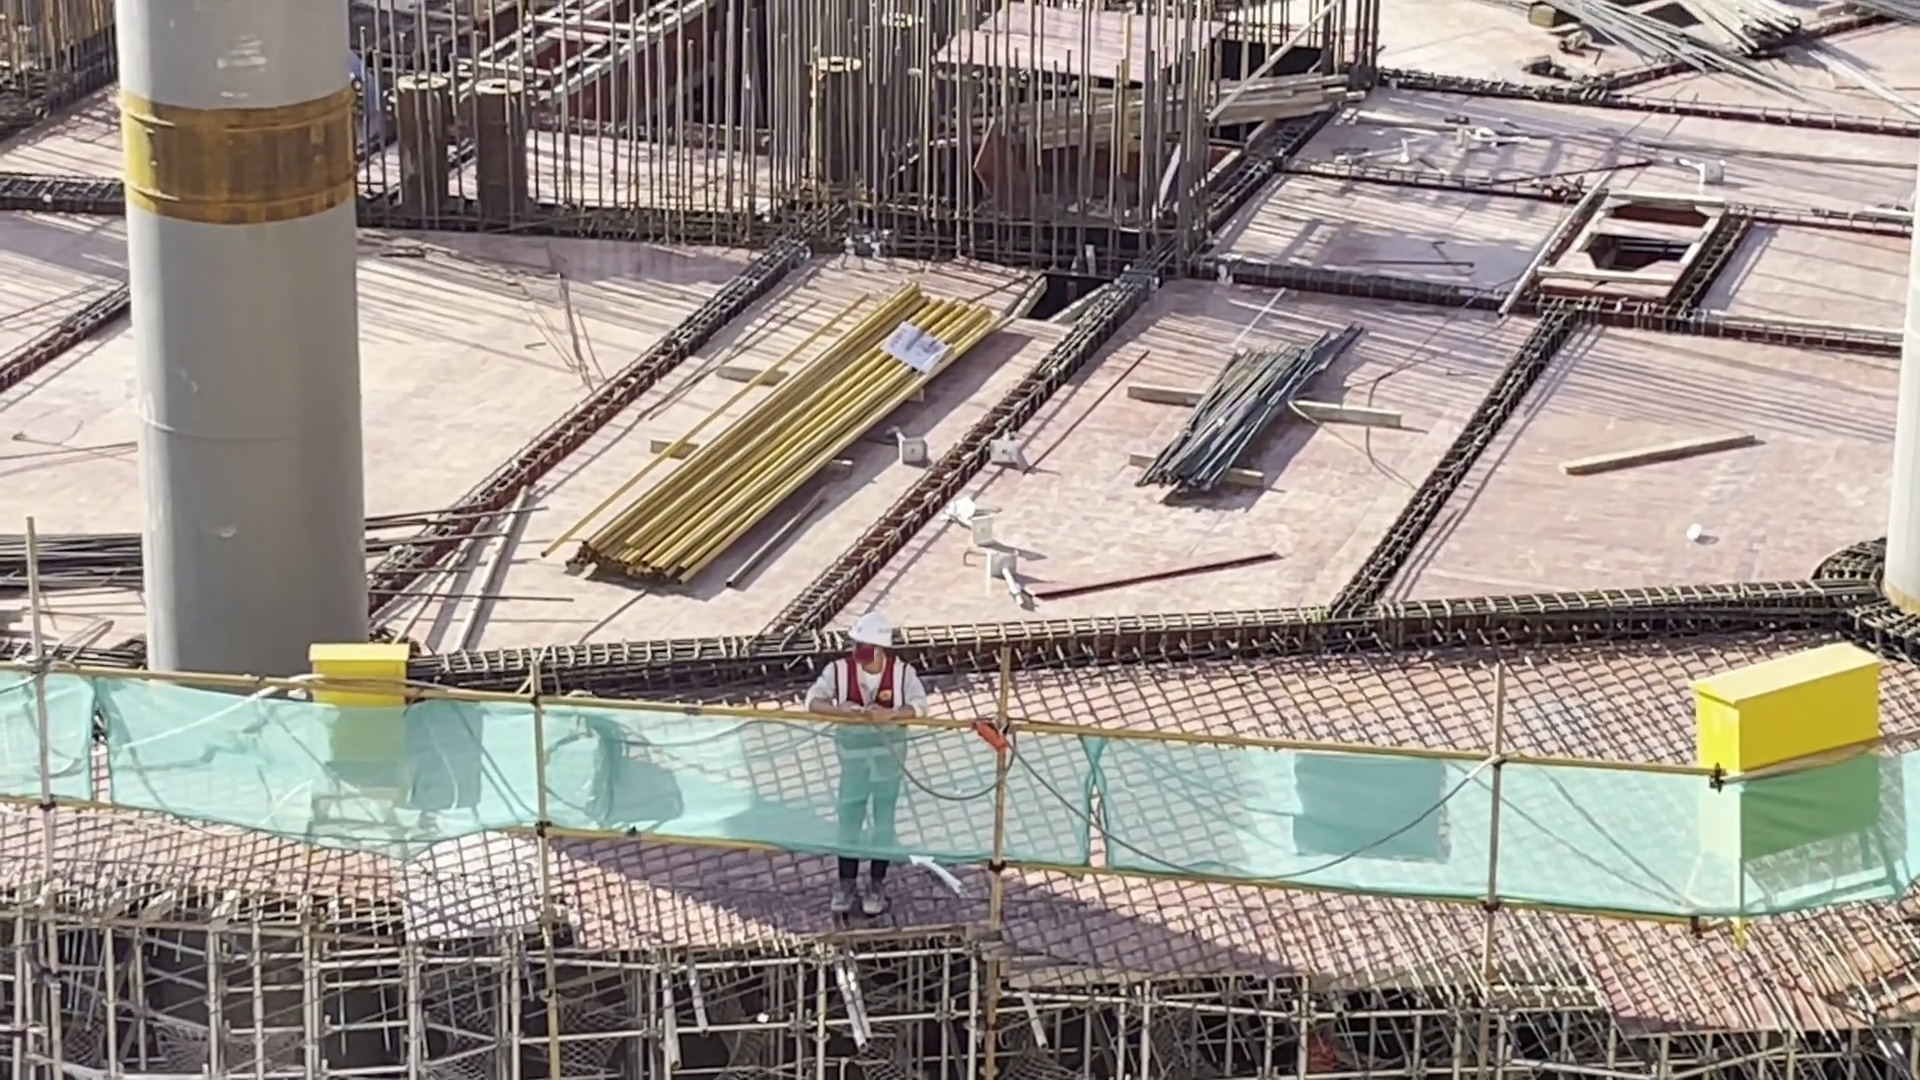helmet: (848, 608, 896, 653)
person: (823, 620, 904, 915)
vest: (822, 665, 911, 790)
